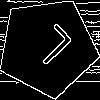L: (23, 22, 74, 74)
